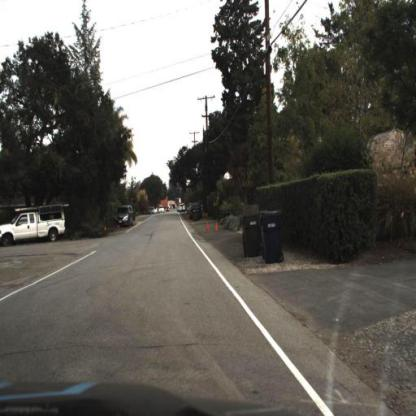car: (1, 204, 69, 249), (113, 202, 136, 231)
